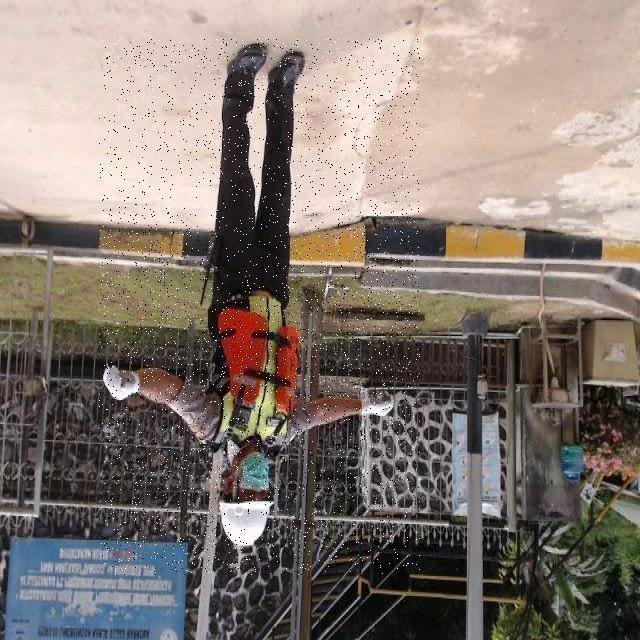Boots: (225, 44, 270, 85), (270, 48, 308, 92)
Gloves: (100, 354, 141, 405), (358, 382, 397, 422)
Helmet: (217, 493, 277, 546)
Vest: (209, 300, 304, 456)
